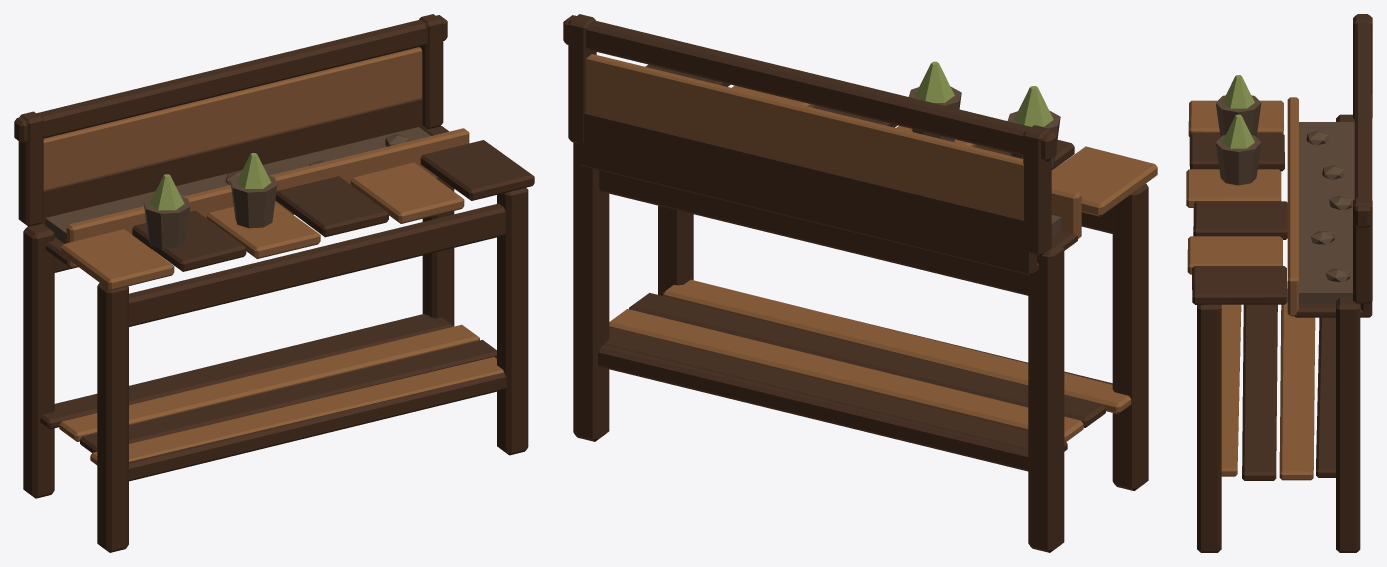
File: prop_potting_bench_a.glb
3 views of the same model, side by side, from view 1: azimuth 30°, elevation 25°; view 2: azimuth 150°, elevation 25°; view 3: azimuth 270°, elevation 25° (orthographic). The views are drawn at different scales.
Visible parts, largest first — view 1: bench_apron_0, bench_back_panel, bench_pot_0, bench_sprout_0; view 2: bench_apron_0, bench_back_panel, bench_sprout_0, bench_pot_0; view 3: bench_apron_0, bench_back_panel, bench_pot_0, bench_sprout_0.
Part boxes in pixels (x1,y1,x2,y2): bench_apron_0: (14, 14, 534, 552); bench_back_panel: (43, 47, 503, 465); bench_pot_0: (45, 127, 430, 249); bench_sprout_0: (149, 153, 271, 210); bench_apron_0: (563, 14, 1148, 552); bench_back_panel: (586, 54, 1157, 441); bench_sprout_0: (915, 61, 1053, 126); bench_pot_0: (908, 86, 1061, 237); bench_apron_0: (1189, 14, 1372, 552); bench_back_panel: (1186, 97, 1315, 480); bench_pot_0: (1215, 95, 1354, 303); bench_sprout_0: (1222, 75, 1254, 148).
Size of the model in its own units: 1.42 by 1.18 by 0.5709.
